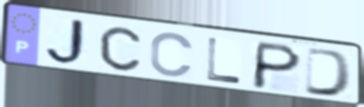C: (148, 31, 197, 79), (97, 25, 143, 73)
D: (302, 45, 355, 99)
J: (44, 17, 92, 67)
L: (205, 36, 244, 86)
P: (249, 40, 305, 92)
